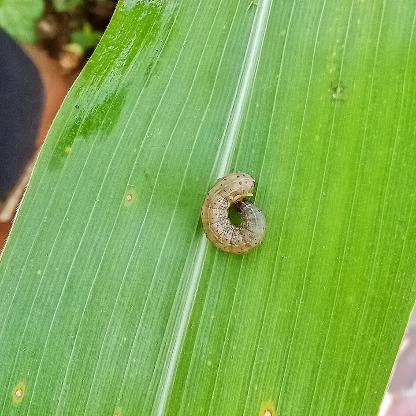Fall Armyworm Larvae: (198, 171, 268, 257)
